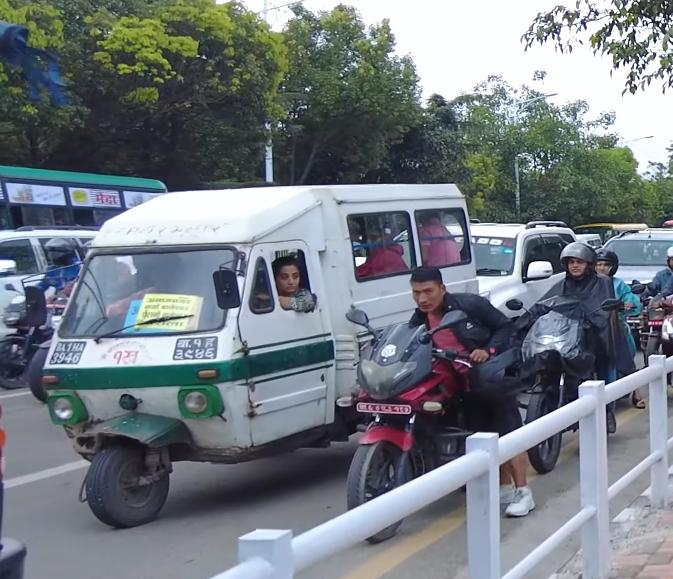tempo: (34, 173, 492, 538)
